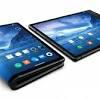Smartphone: (2, 22, 57, 86), (38, 5, 100, 56)
